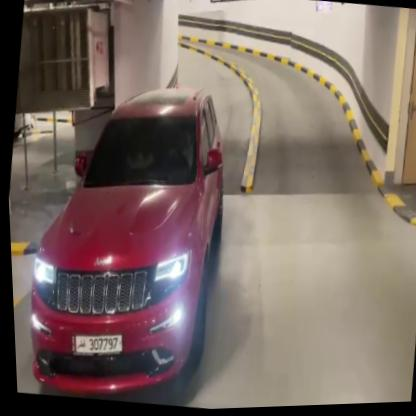np: (67, 331, 120, 357)
